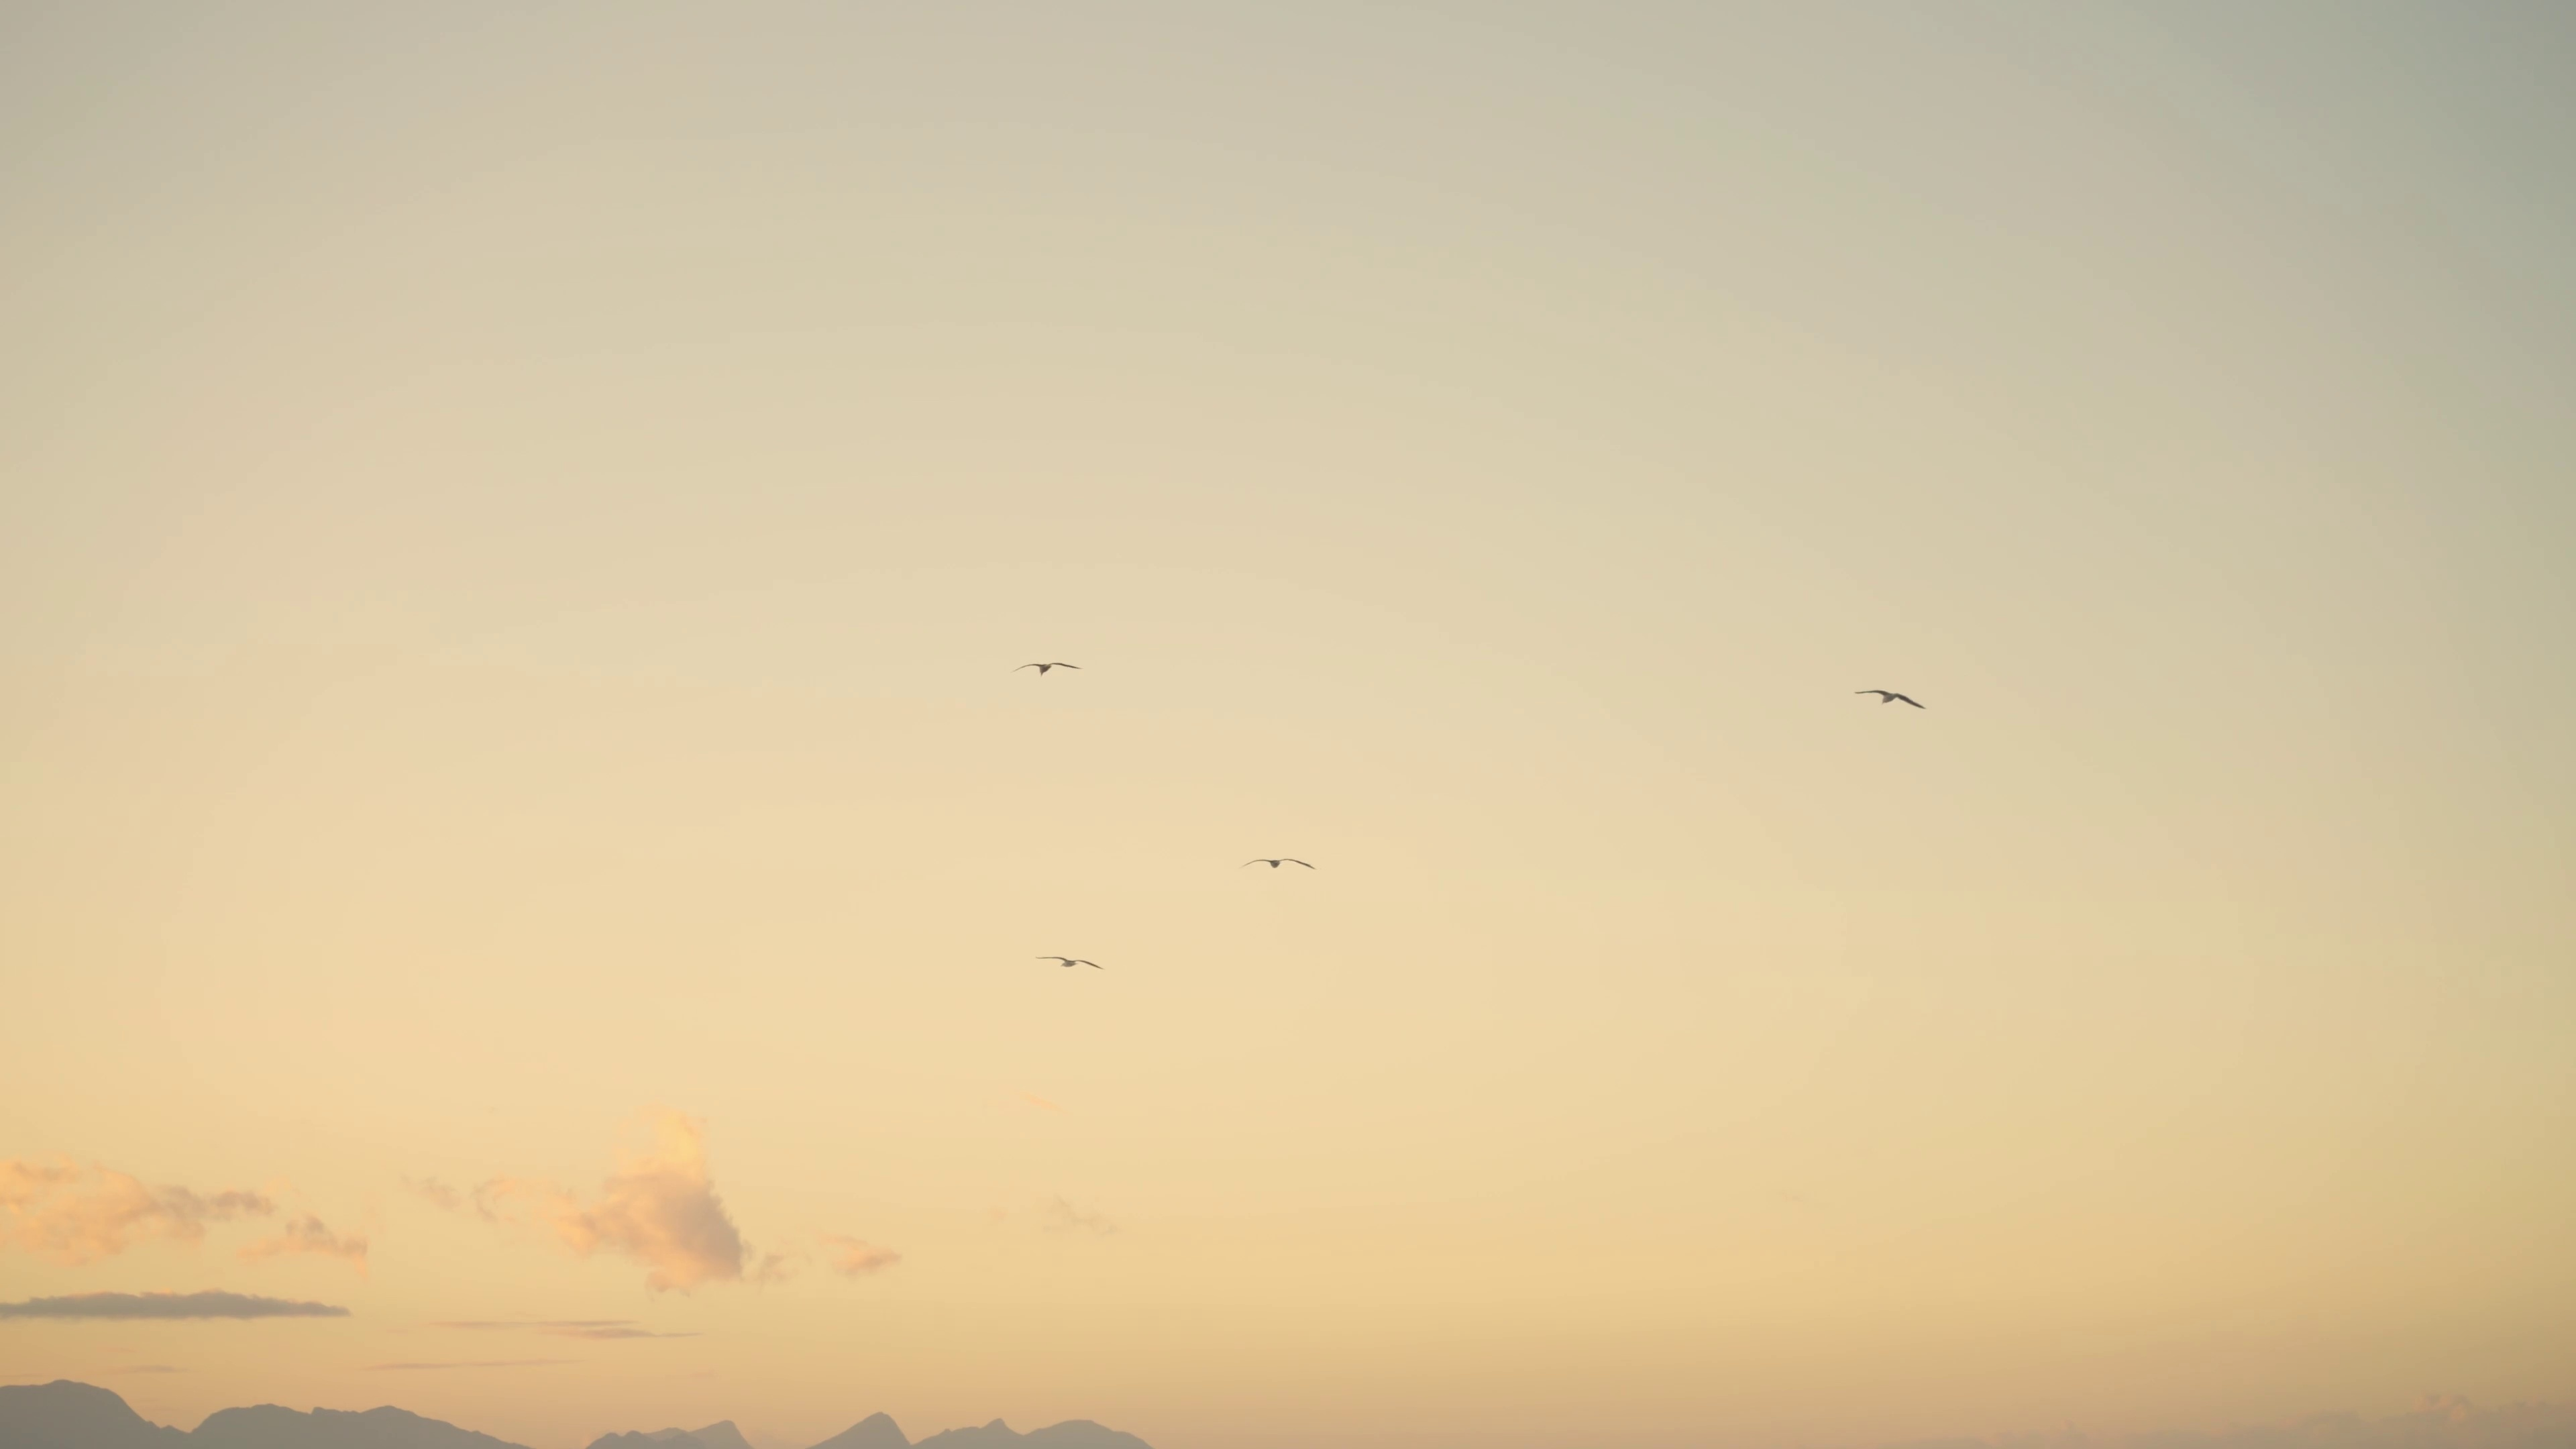bird: (1856, 688, 1925, 709), (1244, 856, 1318, 872), (1037, 955, 1104, 971), (1014, 663, 1083, 676)
